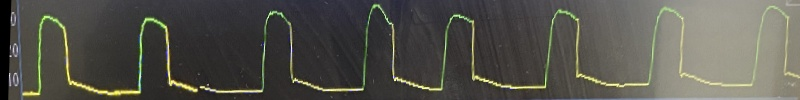normal_pressure: (24, 0, 795, 100)
